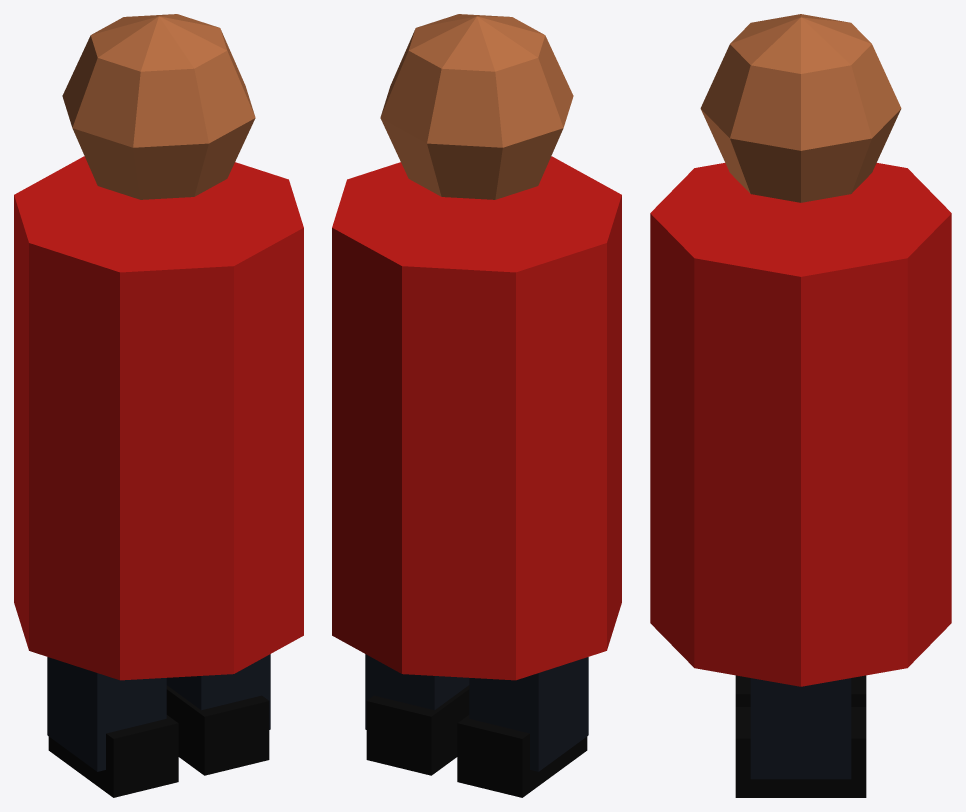
The model's file is player.obj.
3 views of the same model, side by side, from view 1: azimuth 30°, elevation 25°; view 2: azimuth 150°, elevation 25°; view 3: azimuth 270°, elevation 25° (orthographic).
Parts seen in each view (by area): view 1: generated_asset; view 2: generated_asset; view 3: generated_asset.
Boxes of the visible parts, left/top/right/bottom form: generated_asset: left=14, top=14, right=303, bottom=797; generated_asset: left=332, top=14, right=621, bottom=797; generated_asset: left=650, top=14, right=951, bottom=797.
Size of the model in its own units: 0.6 by 1.63 by 0.6.
